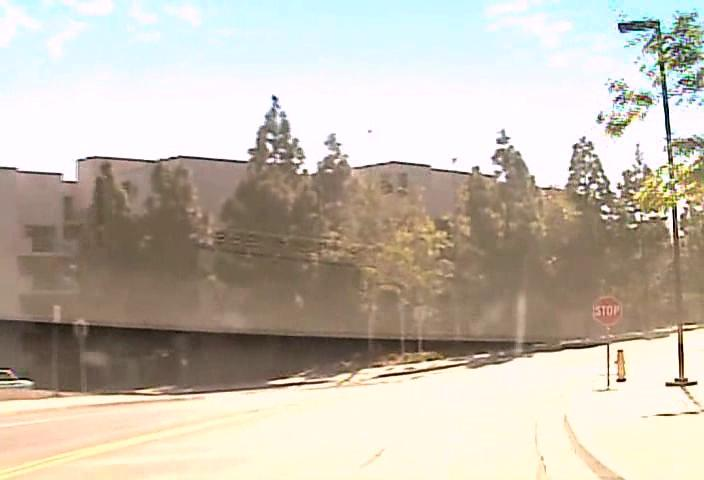stop: (592, 295, 622, 325)
